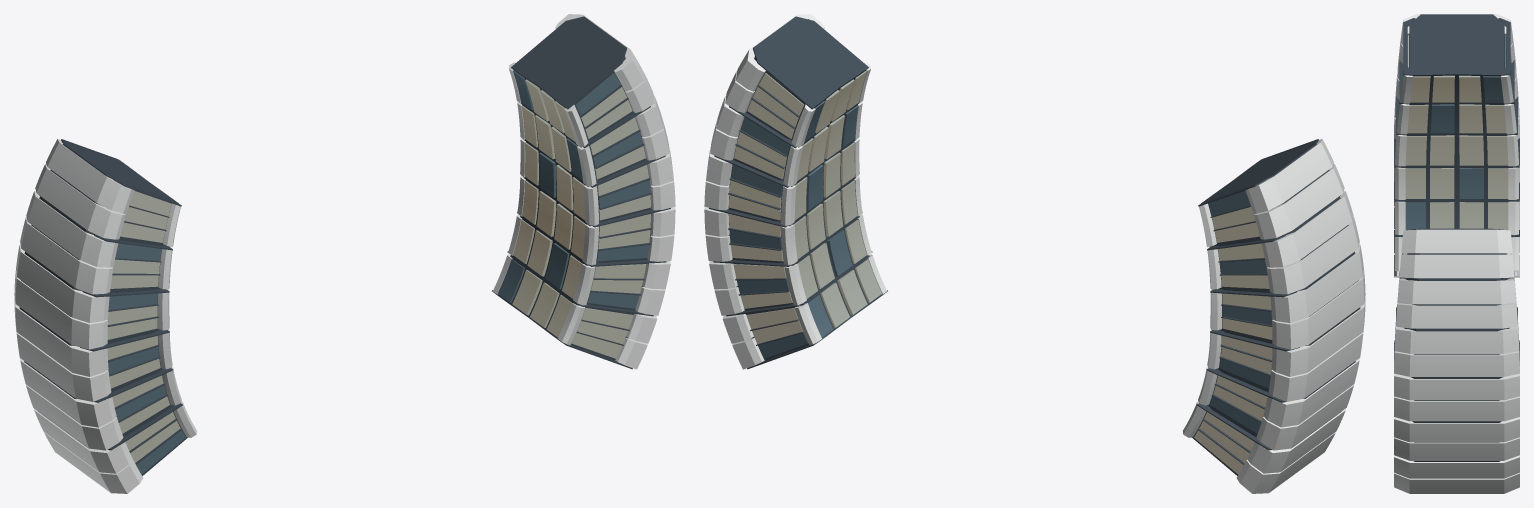
Rendered from ring-shoulders-2127.glb.
3 renders of one model, left to right at view 1: azimuth 30°, elevation 25°; view 2: azimuth 150°, elevation 25°; view 3: azimuth 270°, elevation 25°, orthographic. The views are drawn at different scales.
Parts seen in each view (by area): view 1: shoulders_ceramic, shoulders_glazing, shoulders_graphite, shoulders_shadow_glazing; view 2: shoulders_ceramic, shoulders_glazing, shoulders_graphite, shoulders_shadow_glazing; view 3: shoulders_ceramic, shoulders_graphite, shoulders_glazing, shoulders_shadow_glazing.
Boxes of the visible parts, <box> form: shoulders_ceramic: <box>14,14,675,493</box>; shoulders_glazing: <box>107,79,650,462</box>; shoulders_graphite: <box>19,16,670,475</box>; shoulders_shadow_glazing: <box>108,70,650,474</box>; shoulders_ceramic: <box>704,14,1365,493</box>; shoulders_glazing: <box>729,70,1272,474</box>; shoulders_graphite: <box>709,16,1360,475</box>; shoulders_shadow_glazing: <box>729,101,1272,433</box>; shoulders_ceramic: <box>1394,14,1519,493</box>; shoulders_graphite: <box>1394,14,1519,461</box>; shoulders_glazing: <box>1400,35,1513,254</box>; shoulders_shadow_glazing: <box>1405,35,1506,230</box>.
Size of the model in its own units: 210 by 104 by 45.
